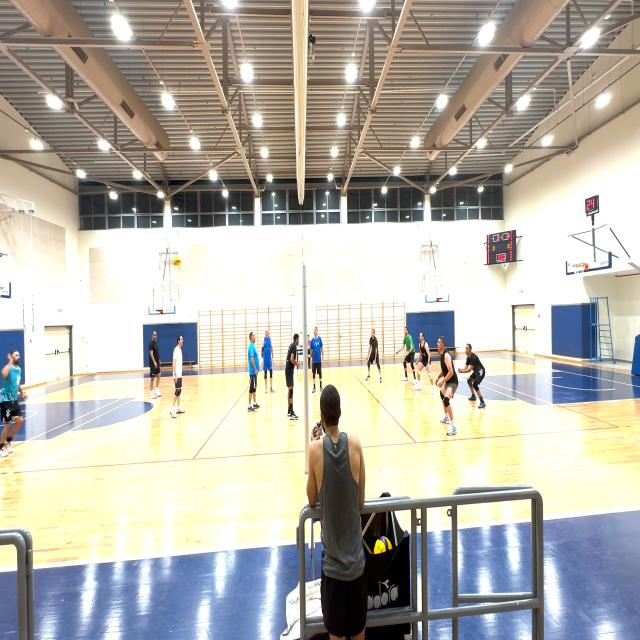volleyball: (374, 536, 394, 554), (173, 256, 181, 268)
